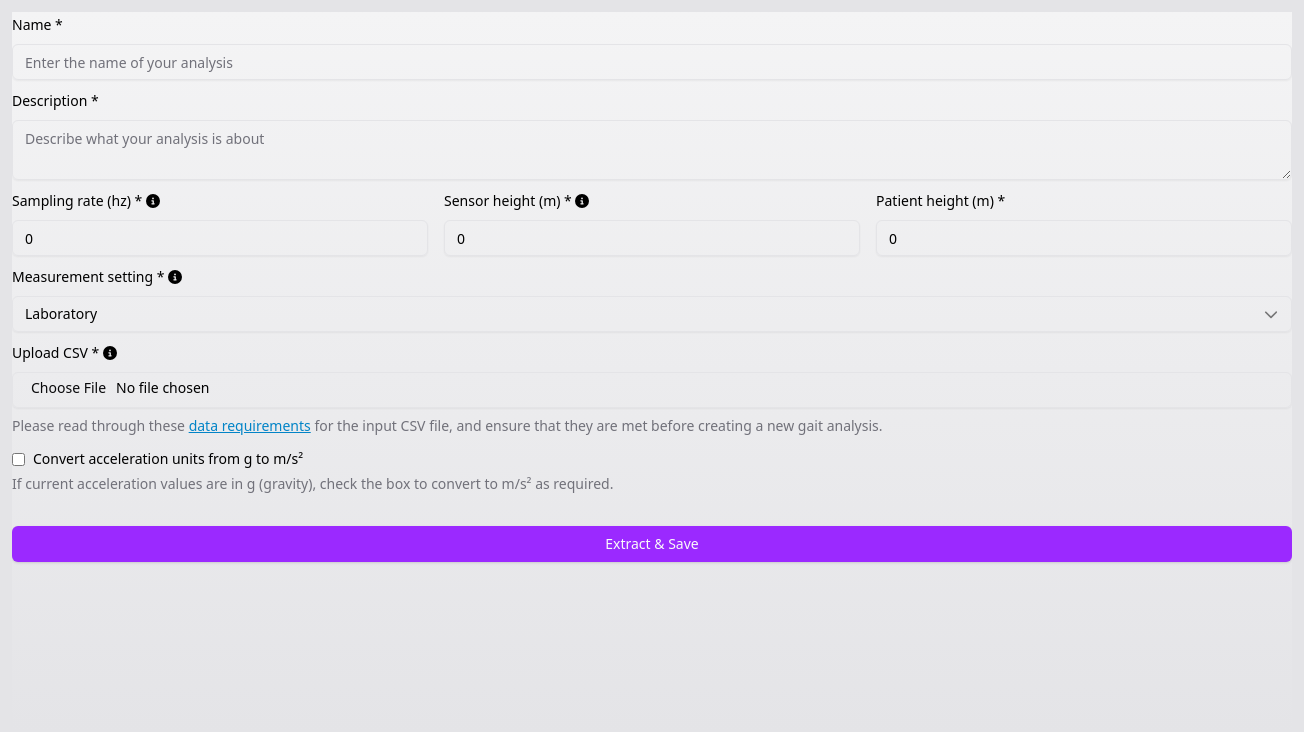
Test: NewAnalysisForm › validates that sampling rate should be an integer
In the number field labelled "Sampling rate (hz) *": (220, 238) [12,220,428,256], type "4.3244"
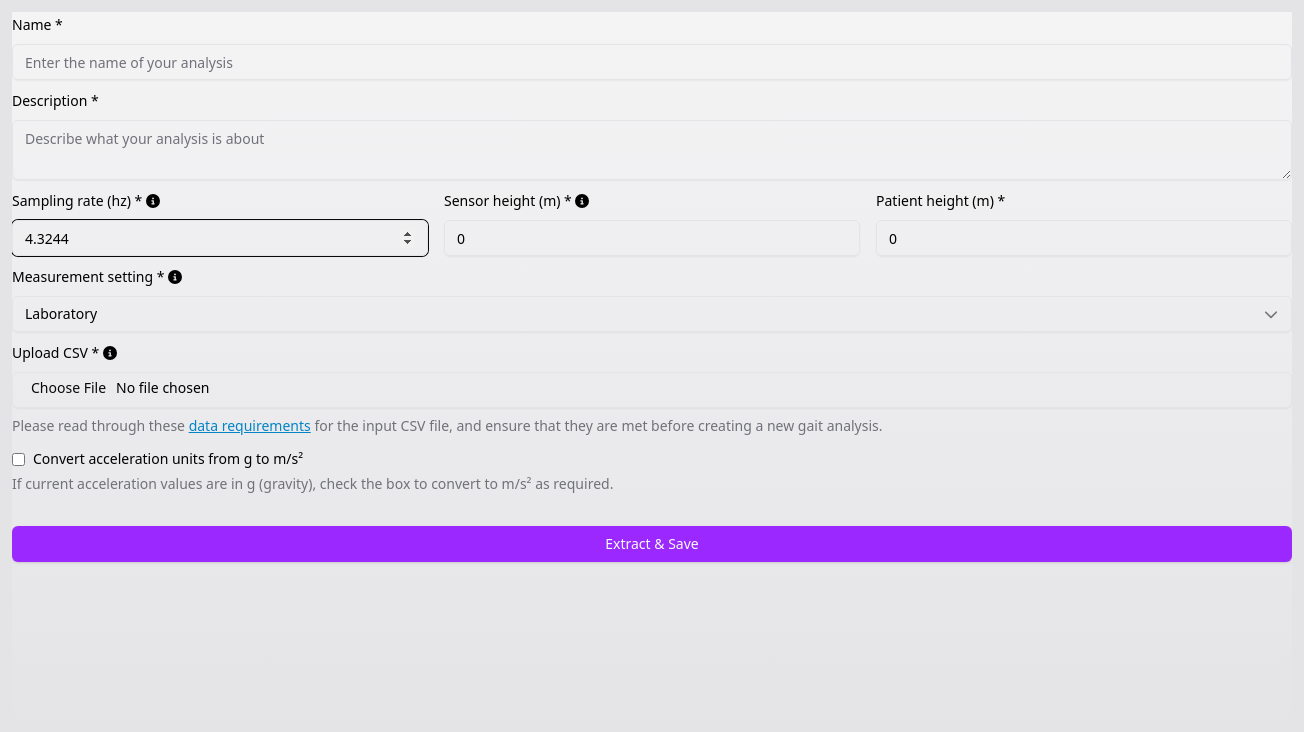
Click the button "Extract & Save": (652, 544) [12,526,1292,562]
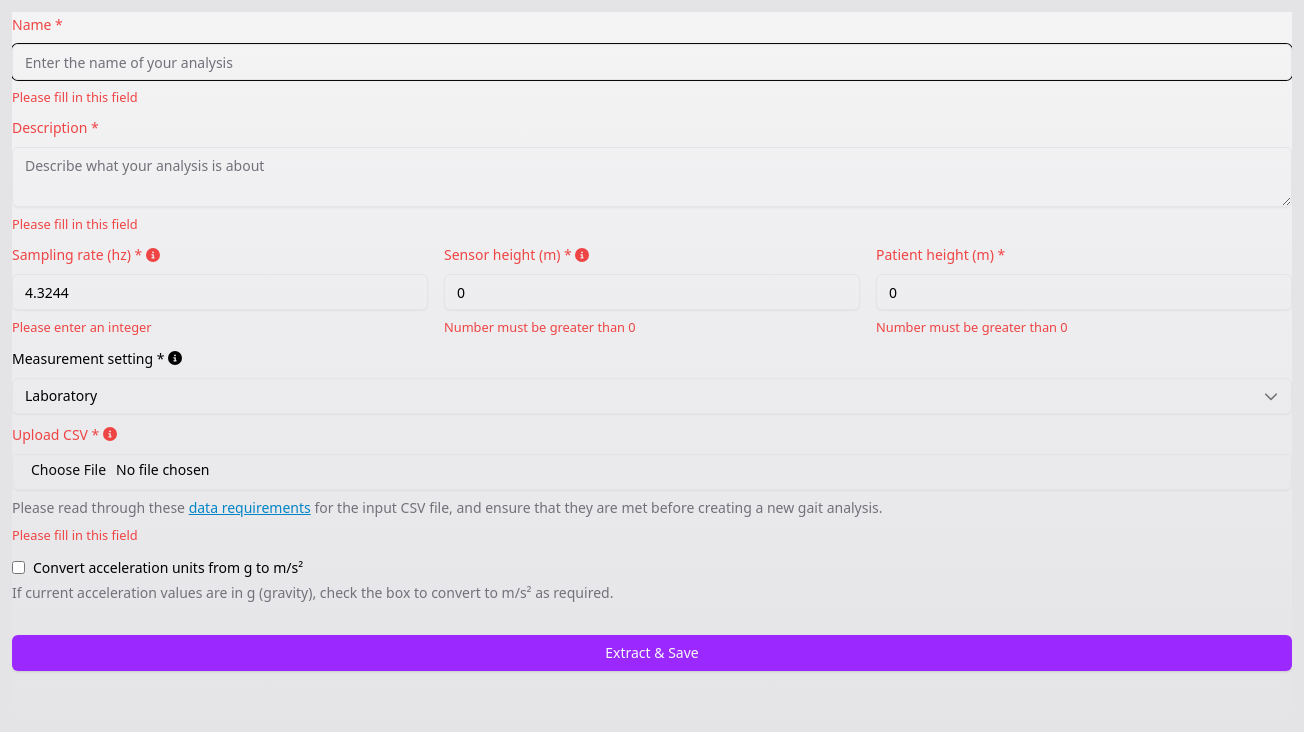
Expected: the text "Please enter an integer" is shown, [12,318,152,336]
